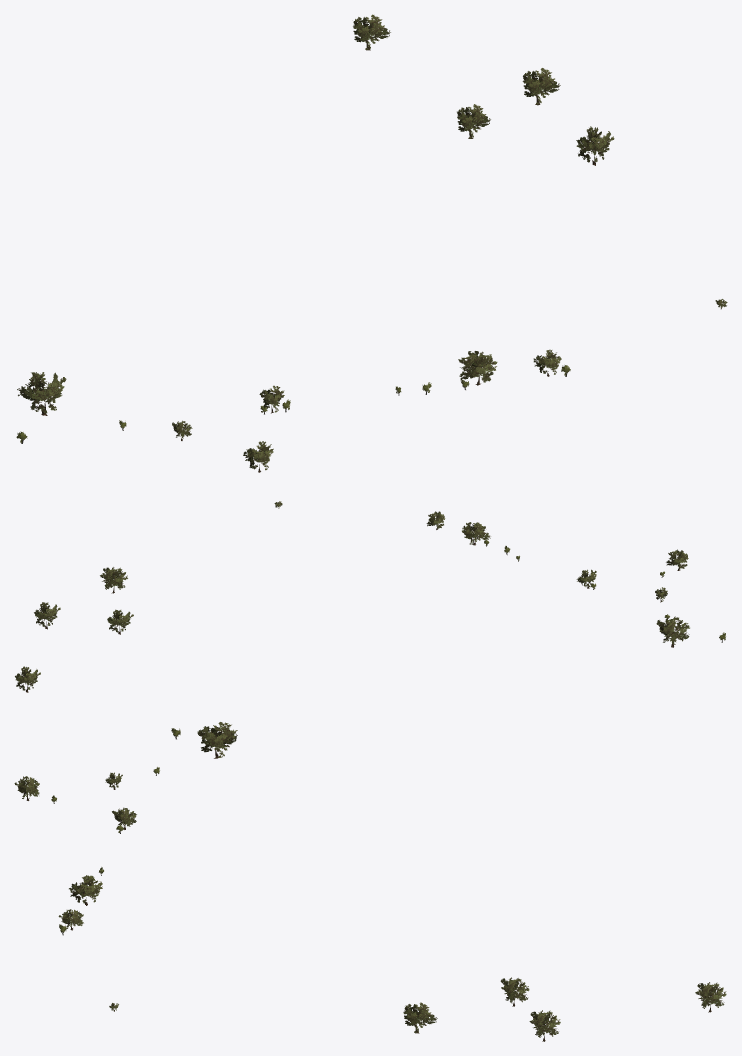
3 renders of one model, top to bottom at view 1: azimuth 30°, elevation 25°; view 2: azimuth 150°, elevation 25°; view 3: azimuth 270°, elevation 25°, orthographic. The views are drawn at different scales.
Parts seen in each view (by area): view 1: jacaranda_tree street foliage; view 2: jacaranda_tree street foliage; view 3: jacaranda_tree street foliage.
Boxes of the visible parts, box(x1,y1,x2,y2) form: jacaranda_tree street foliage: box(17, 14, 727, 470); jacaranda_tree street foliage: box(15, 501, 689, 690); jacaranda_tree street foliage: box(14, 722, 726, 1037).
Bounding box in the file's own units: 318 × 16.72 × 308.
Materials: 4 (4 with a texture image).
